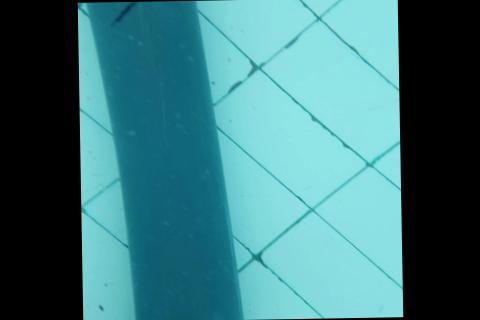keretakan: (107, 1, 173, 25)
